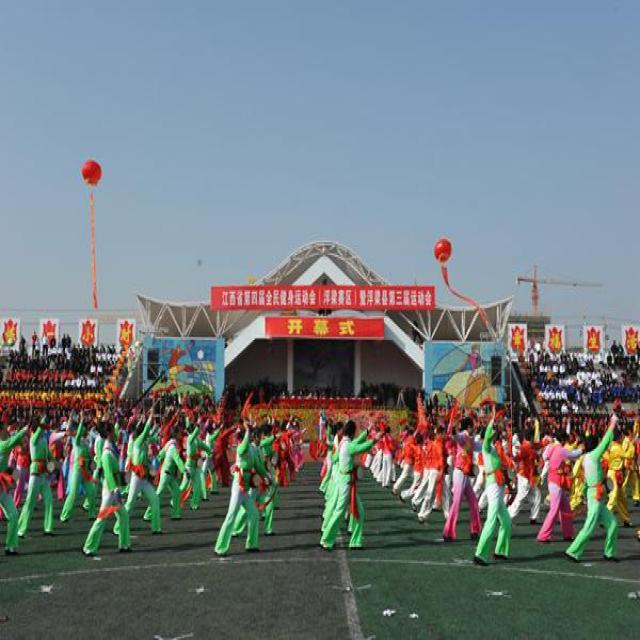non-fight: (318, 421, 386, 552), (562, 415, 623, 561), (213, 416, 270, 554), (79, 417, 129, 555), (472, 413, 515, 563), (118, 413, 165, 541), (536, 422, 586, 542), (441, 410, 483, 542), (14, 417, 59, 537), (147, 416, 190, 522), (503, 427, 548, 524), (57, 418, 95, 524), (409, 426, 445, 521), (0, 421, 27, 547), (180, 428, 211, 510), (198, 421, 225, 499), (392, 431, 419, 498), (274, 432, 294, 485), (380, 424, 397, 486)
